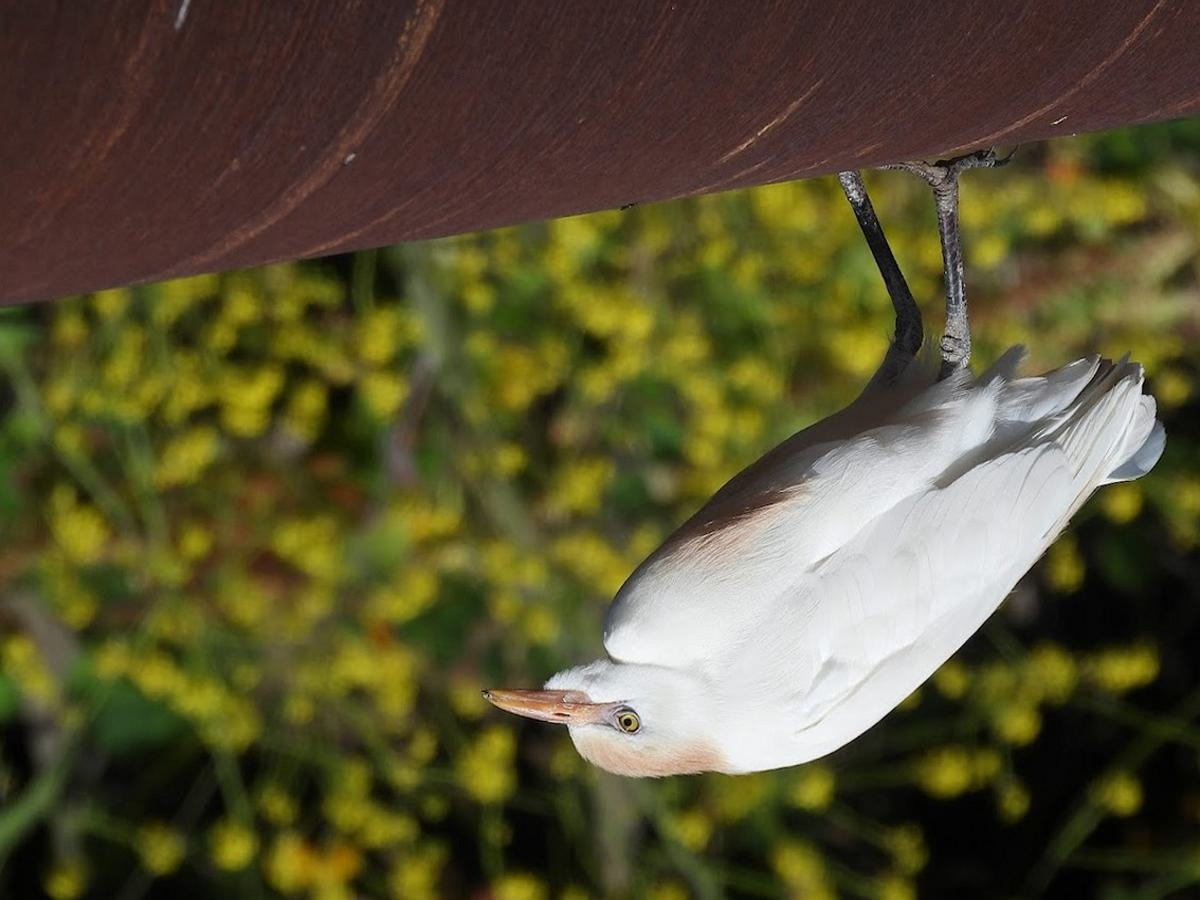egret: (493, 179, 1168, 801)
